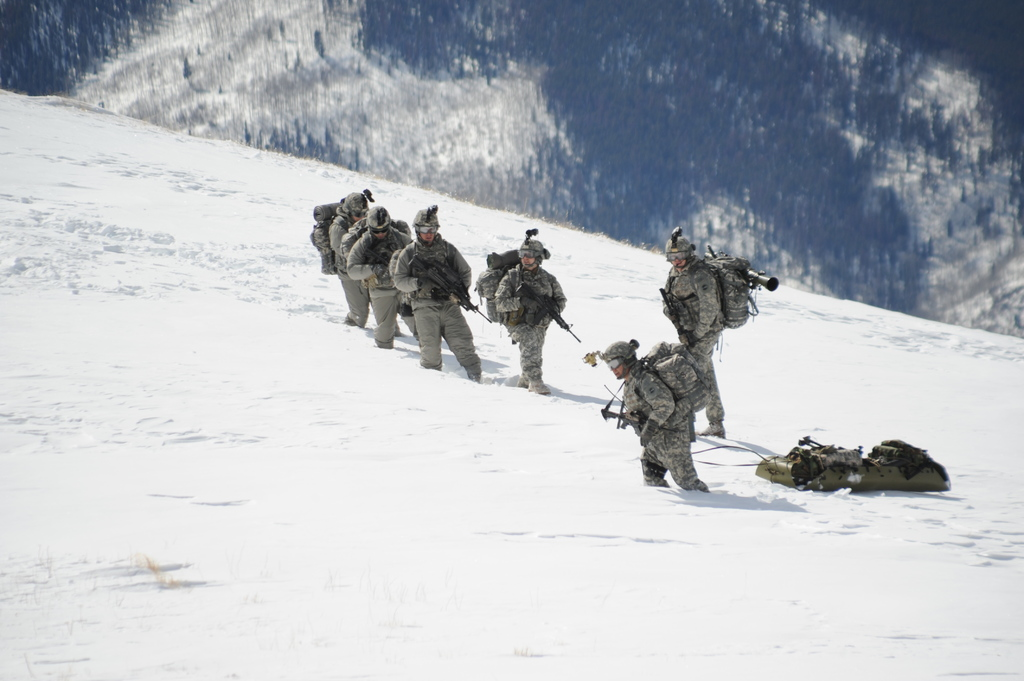Person: (581, 339, 715, 490), (393, 203, 484, 383), (660, 222, 728, 437), (492, 229, 568, 396), (344, 206, 419, 349), (327, 186, 376, 329)
